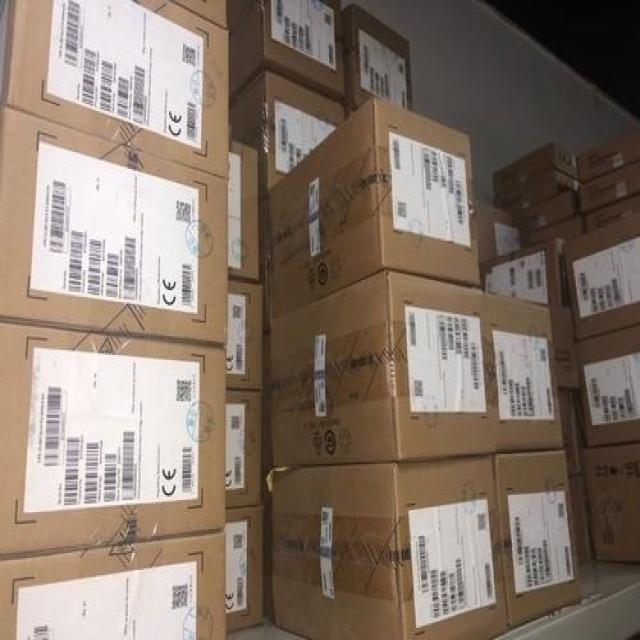box: (271, 270, 562, 468), (1, 108, 228, 346), (0, 323, 225, 556), (270, 101, 480, 321), (274, 456, 507, 640), (5, 0, 229, 179), (0, 529, 225, 640), (494, 451, 580, 628), (229, 70, 346, 198), (230, 0, 344, 96), (566, 212, 640, 341), (343, 2, 413, 113), (577, 328, 640, 447), (584, 444, 640, 561), (484, 241, 562, 305), (227, 509, 264, 633), (493, 143, 579, 195), (229, 138, 260, 280), (227, 393, 261, 509), (227, 280, 262, 391), (476, 201, 526, 265), (581, 160, 640, 212), (579, 133, 640, 181), (493, 171, 579, 205), (570, 478, 593, 567), (588, 195, 640, 234), (552, 307, 577, 387), (558, 391, 580, 476), (524, 195, 573, 232), (172, 0, 228, 29), (260, 198, 271, 333), (529, 217, 582, 242)
